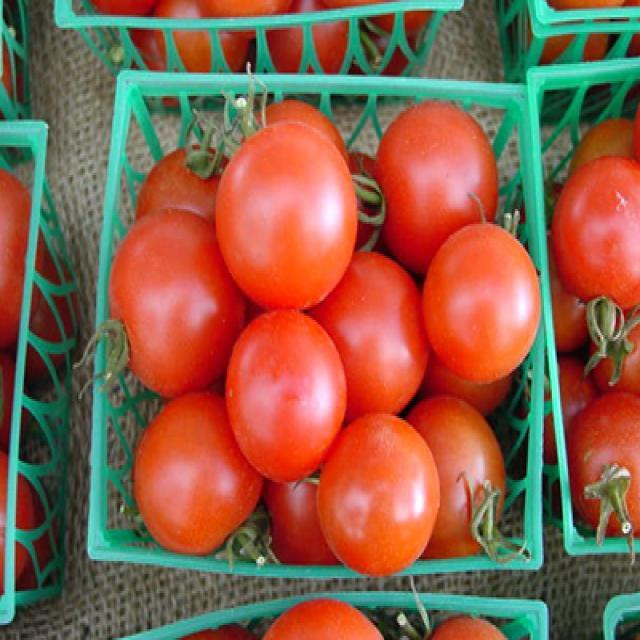kirmizi: (160, 112, 504, 560)
